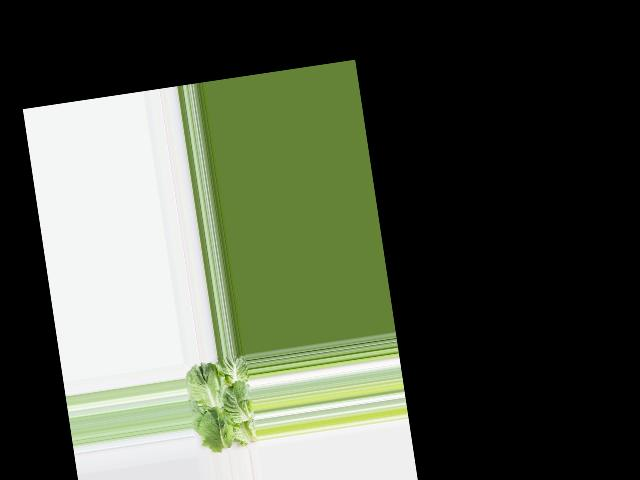lettuce: (185, 356, 259, 453)
